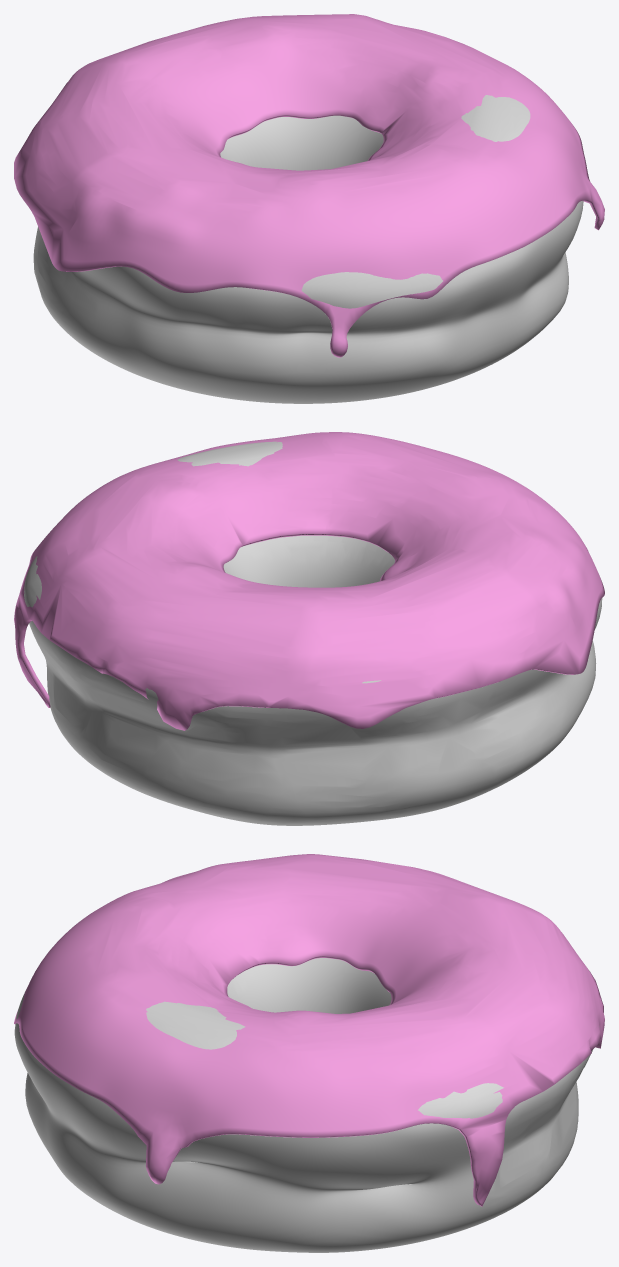
3 renders of one model, top to bottom at view 1: azimuth 30°, elevation 25°; view 2: azimuth 150°, elevation 25°; view 3: azimuth 270°, elevation 25°, orthographic. The views are drawn at different scales.
Parts seen in each view (by area): view 1: icing; view 2: icing; view 3: icing.
Boxes of the visible parts, x1,y1,x2,y2 form: icing: (14,14,604,403); icing: (14,432,604,825); icing: (14,854,604,1252).
Size of the model in its own units: 0.1239 by 0.0514 by 0.1223.
